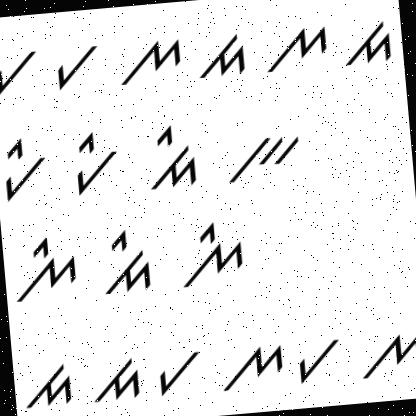da: (22, 354, 75, 416), (88, 354, 146, 409), (192, 31, 252, 82), (342, 17, 394, 72)
di: (137, 118, 205, 195), (99, 228, 159, 298)
na: (114, 33, 188, 96), (262, 18, 334, 80), (220, 335, 288, 394), (358, 326, 416, 384)
ni: (172, 214, 249, 292), (10, 232, 82, 306)
pa: (150, 340, 206, 404), (47, 41, 105, 94), (294, 331, 348, 386), (0, 43, 39, 102)
pi: (66, 127, 124, 197), (0, 132, 50, 204)
